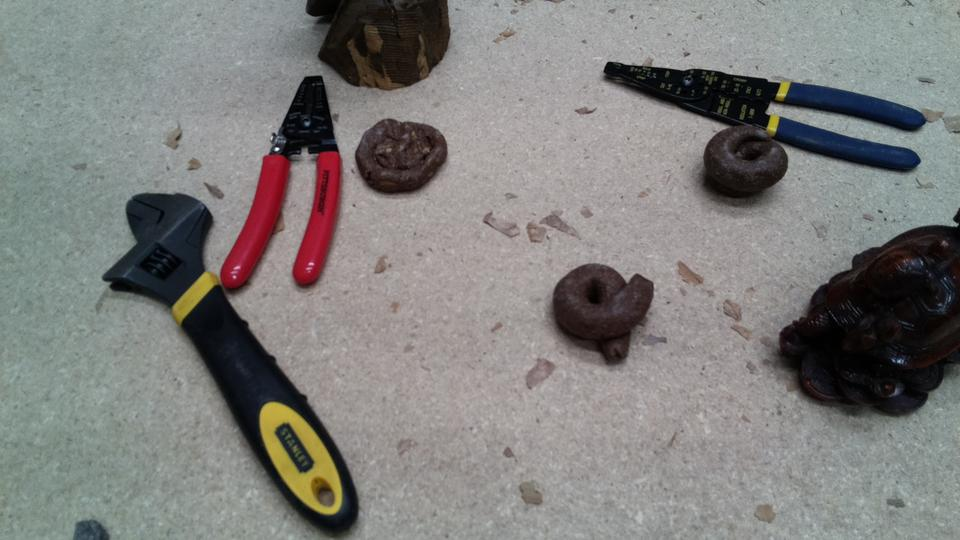poop: (548, 261, 657, 367), (350, 114, 451, 198), (701, 123, 790, 201)
